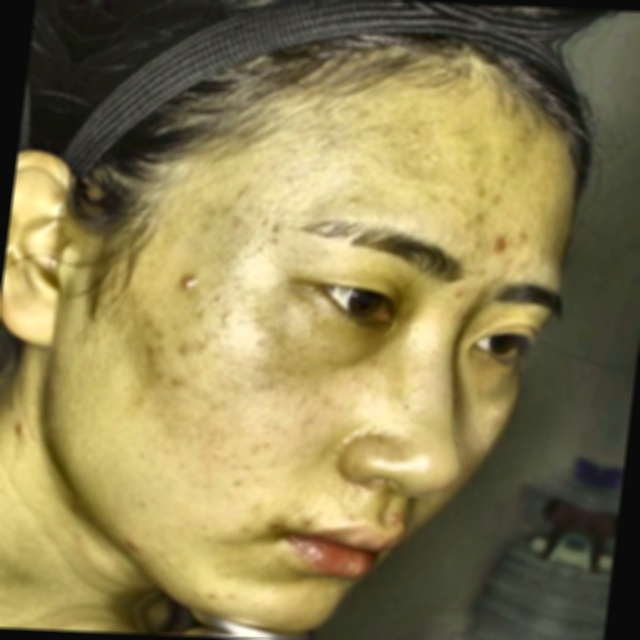comedone: (167, 264, 225, 308), (0, 406, 41, 447), (481, 226, 519, 263), (384, 508, 414, 538), (120, 530, 145, 558)
